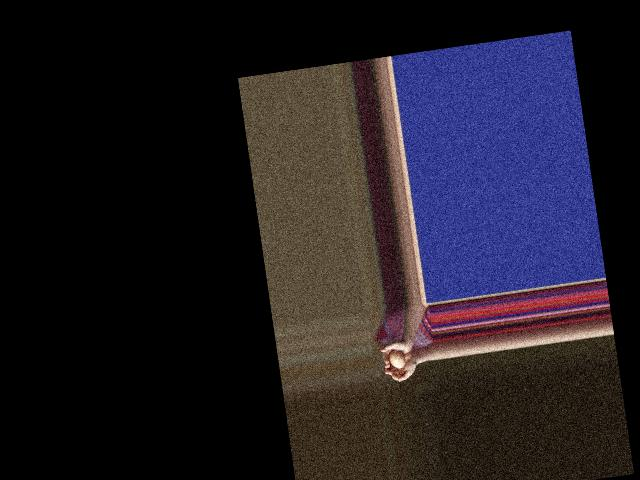egg: (387, 349, 405, 369)
